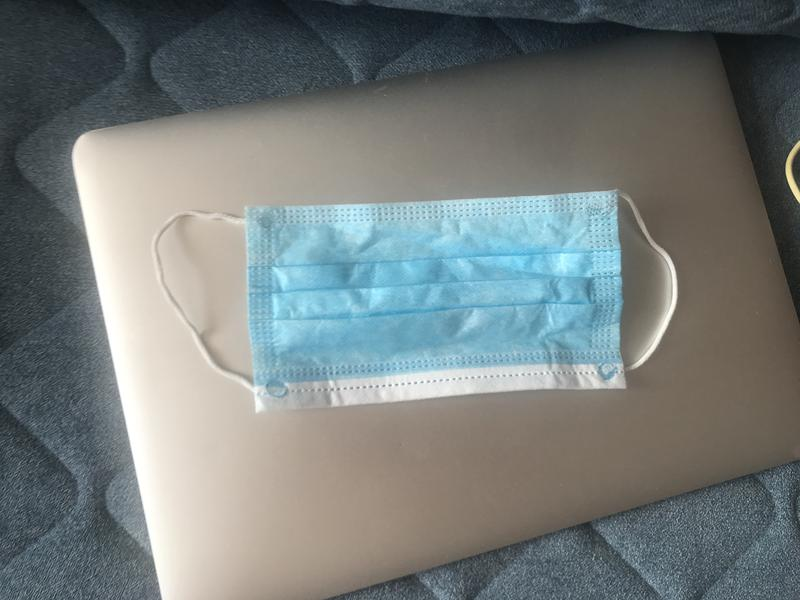medical_mask: (151, 191, 677, 413)
